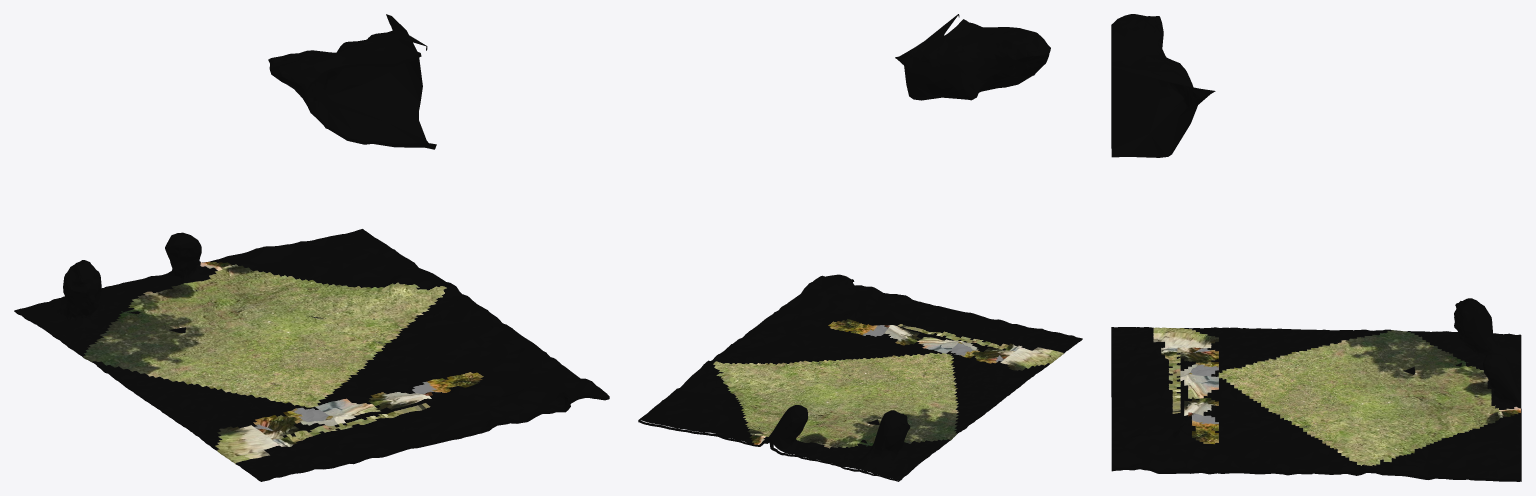
3 renders of one model, left to right at view 1: azimuth 30°, elevation 25°; view 2: azimuth 150°, elevation 25°; view 3: azimuth 270°, elevation 25°, orthographic. The views are drawn at different scales.
Visible parts, largest first — view 1: node_146; view 2: node_146; view 3: node_146.
Boxes of the visible parts, x1,y1,x2,y2 form: node_146: (14,14,609,481); node_146: (638,14,1082,481); node_146: (1111,14,1521,481).
Bounding box in the file's own units: 8.98 × 10.26 × 11.
1 material, 1 textured.
